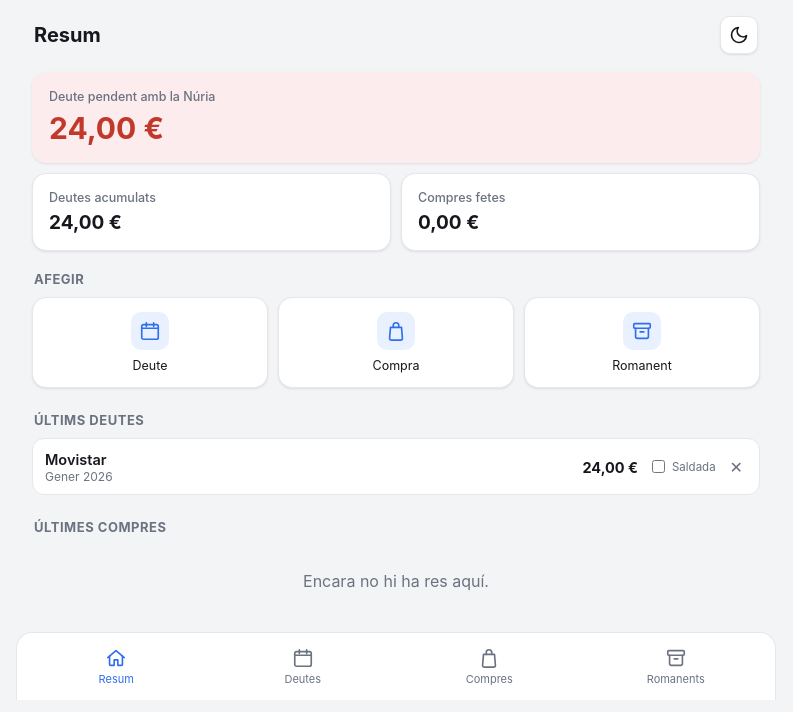
it: App (integració) › marca una entrada com a saldada i deixa de comptar al total
Expected: the text "Deutes" is shown, x1=284 y1=672 x2=321 y2=686
Click the button "Deutes" at (303, 666), box x1=210 y1=641 x2=396 y2=692
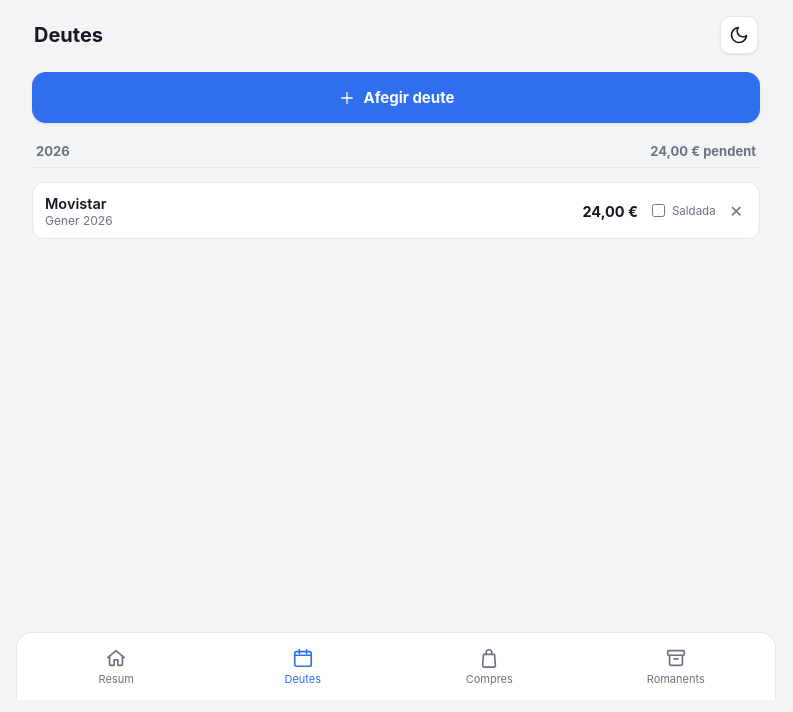
Expected: the text "Movistar" is shown, x1=45 y1=195 x2=106 y2=212
Click the checkbox at (658, 210), box x1=652 y1=204 x2=665 y2=217
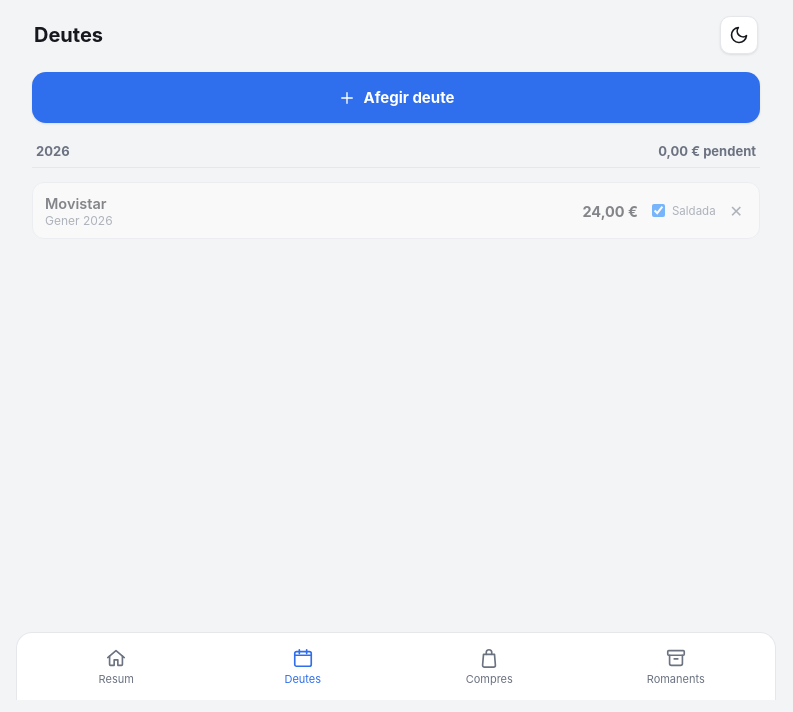
Click the button "Resum" at (116, 666), box x1=23 y1=641 x2=210 y2=692
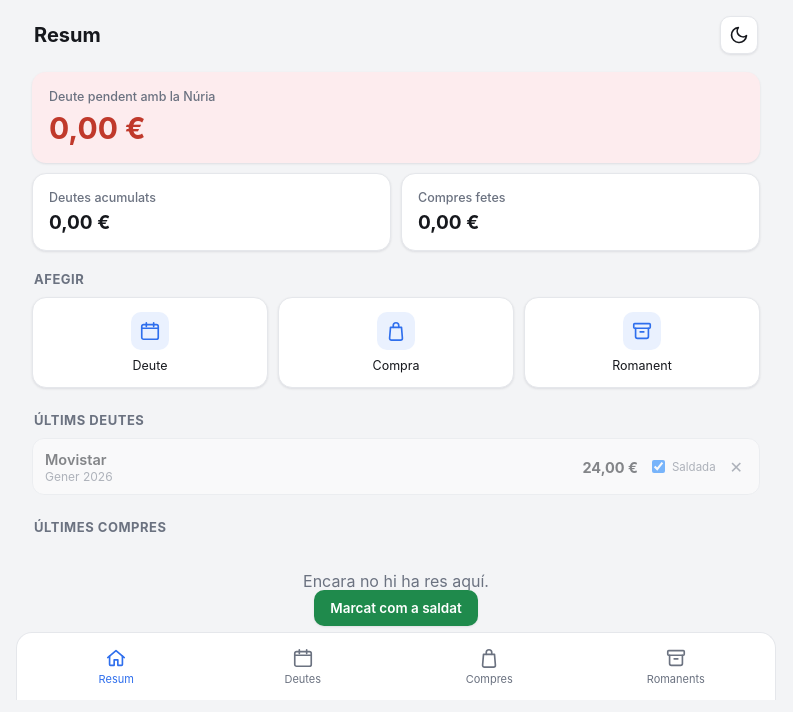
Expected: the text "0,00 €" below "Deute pendent amb la Núria" is shown, x1=49 y1=110 x2=146 y2=146
